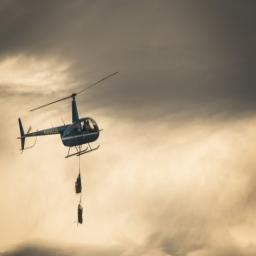helicopter: (19, 94, 109, 157)
